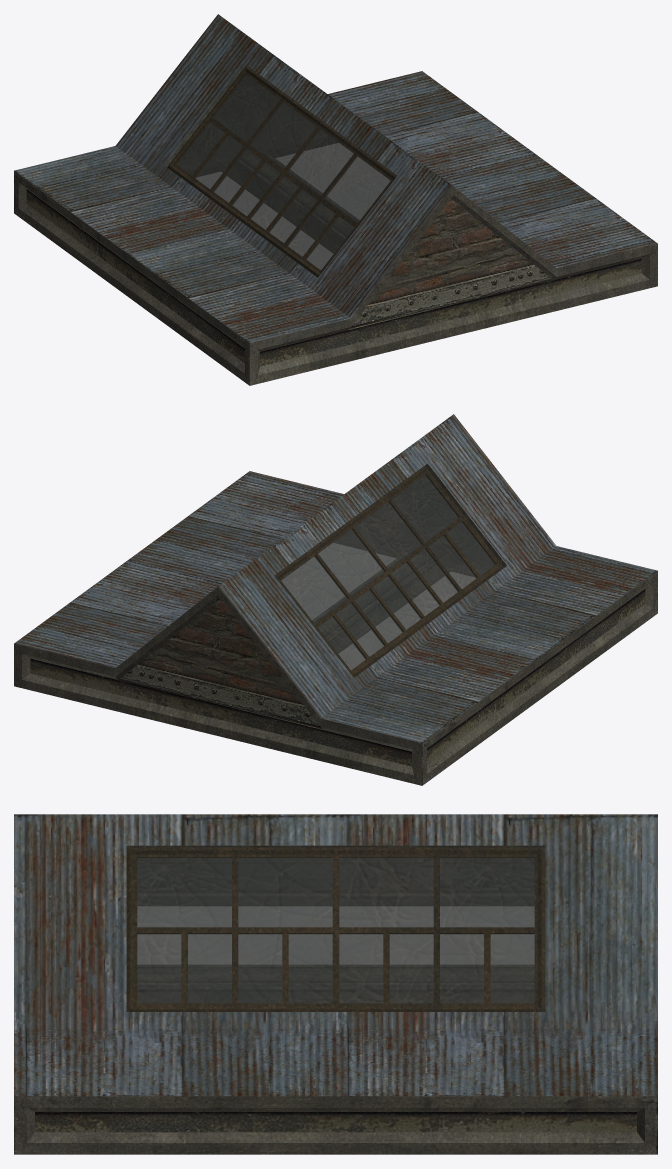
Rendered from roof_bx_1.obj.
The picture shows the model from 3 angles, top to bottom: view 1: azimuth 30°, elevation 25°; view 2: azimuth 150°, elevation 25°; view 3: azimuth 270°, elevation 25°; orthographic projection. The views are drawn at different scales.
Parts seen in each view (by area): view 1: roof_bx_1; view 2: roof_bx_1; view 3: roof_bx_1.
Part boxes in pixels (left/top/right/bottom): roof_bx_1: left=14, top=14, right=657, bottom=385; roof_bx_1: left=14, top=414, right=657, bottom=785; roof_bx_1: left=14, top=814, right=657, bottom=1154.
Size of the model in its own units: 4 by 1.4 by 4.
